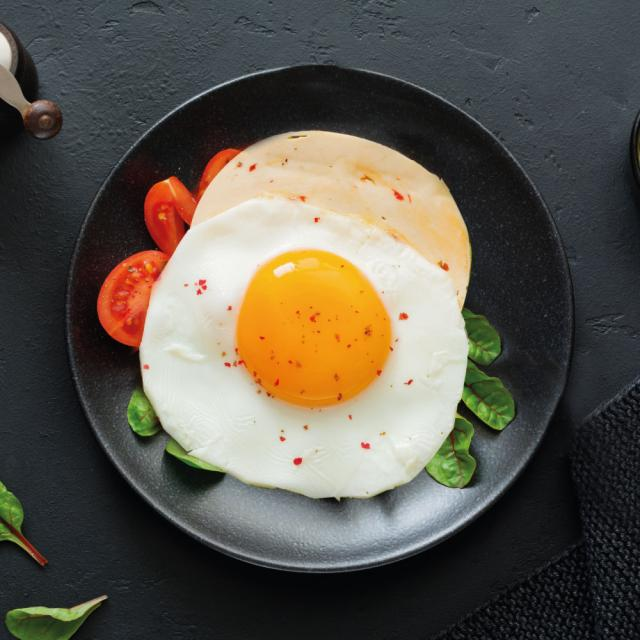eggs: (174, 128, 498, 490)
